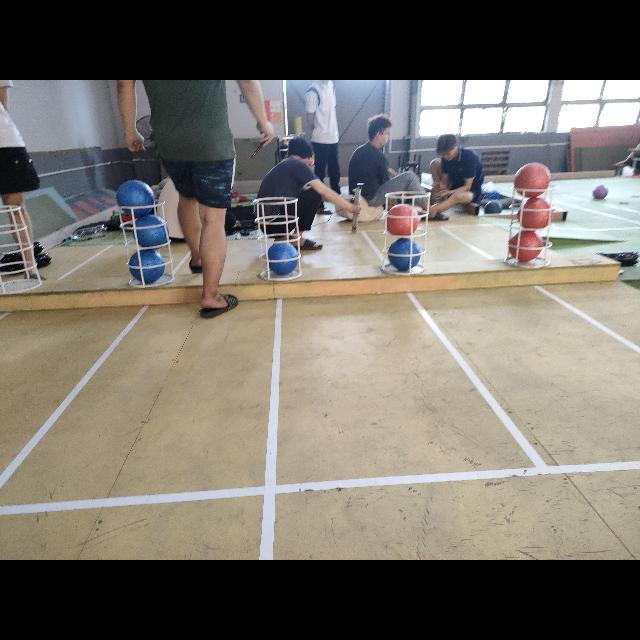B: (126, 248, 166, 286), (115, 180, 157, 216), (386, 238, 422, 272), (266, 242, 300, 276), (133, 216, 169, 248)
R: (512, 160, 550, 198), (516, 197, 554, 233), (506, 230, 546, 262), (385, 205, 419, 238)
